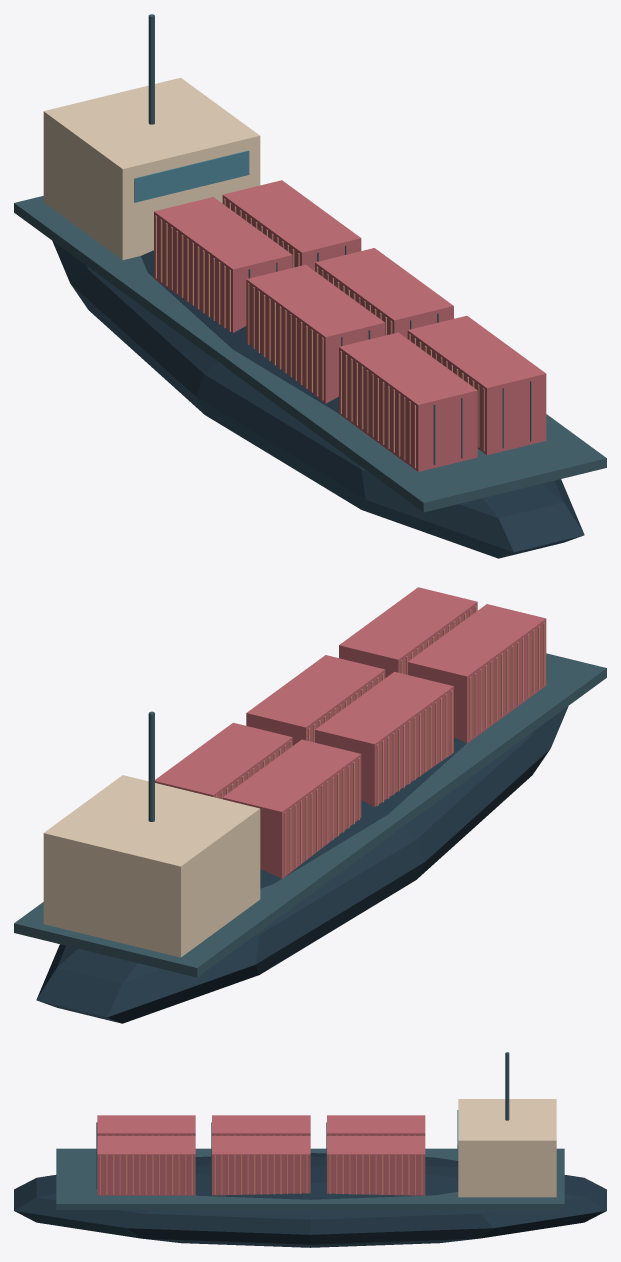
File: cargoShip.obj
The picture shows the model from 3 angles, top to bottom: view 1: azimuth 30°, elevation 25°; view 2: azimuth 150°, elevation 25°; view 3: azimuth 270°, elevation 25°; orthographic projection. The views are drawn at different scales.
Visible parts, largest first — view 1: cargoShip; view 2: cargoShip; view 3: cargoShip.
Boxes of the visible parts, left/top/right/bottom form: cargoShip: left=14, top=14, right=606, bottom=558; cargoShip: left=14, top=587, right=606, bottom=1023; cargoShip: left=14, top=1052, right=606, bottom=1247.
Size of the model in its own units: 10 by 12.1 by 36.14.
